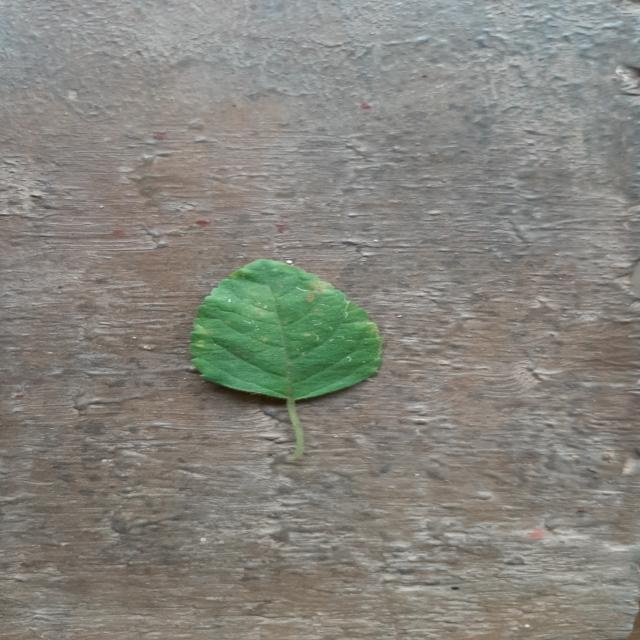defectedtulsi: (195, 260, 355, 360)
tulsi: (190, 260, 382, 458)
